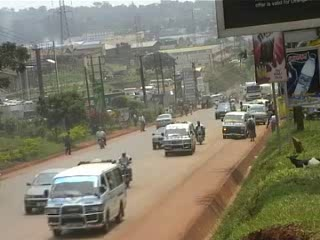Car: (20, 167, 66, 213), (149, 124, 168, 149), (212, 102, 234, 120), (154, 112, 173, 129)
Motorcycle: (117, 150, 134, 188), (93, 123, 108, 149), (192, 120, 208, 144)
